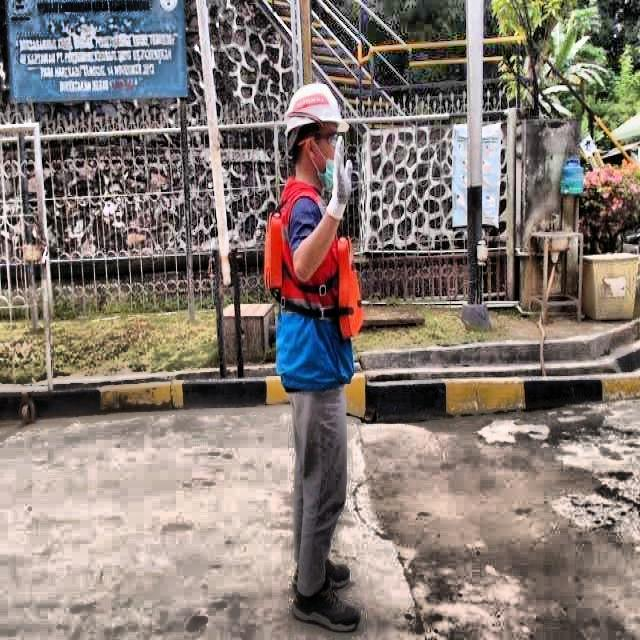safety_helmet: (282, 82, 351, 141)
safety_jacket: (266, 177, 363, 385)
